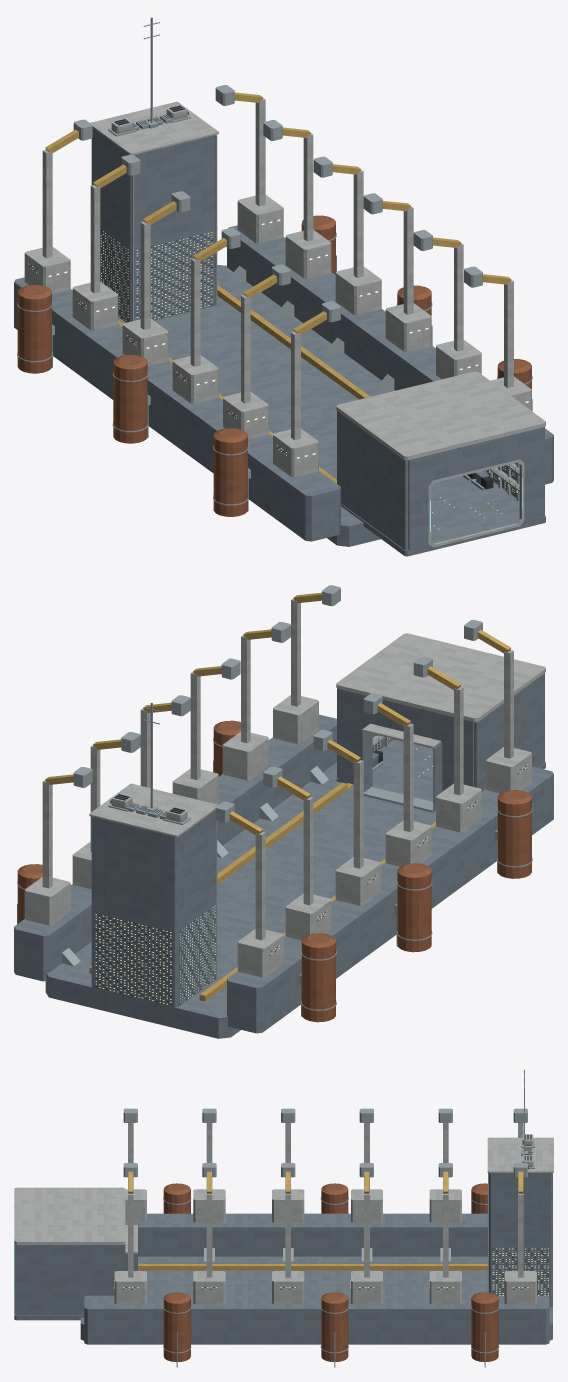
The model's file is league-yard.glb.
The picture shows the model from 3 angles, top to bottom: view 1: azimuth 30°, elevation 25°; view 2: azimuth 150°, elevation 25°; view 3: azimuth 270°, elevation 25°; orthographic projection. The views are drawn at different scales.
Visible parts, largest first — view 1: league-yard / hull, league-yard / armor, league-yard / copper, league-yard / metal, league-yard / ochre, league-yard / warm, league-yard / dark; view 2: league-yard / hull, league-yard / armor, league-yard / copper, league-yard / metal, league-yard / ochre, league-yard / warm, league-yard / dark, league-yard / glass; view 3: league-yard / hull, league-yard / armor, league-yard / copper, league-yard / metal, league-yard / ochre, league-yard / warm, league-yard / dark.
Boxes of the visible parts, box(x1,y1,x2,y2) form: league-yard / hull: box(14, 128, 553, 556); league-yard / armor: box(24, 98, 545, 547); league-yard / copper: box(17, 111, 531, 516); league-yard / metal: box(17, 17, 532, 511); league-yard / ochre: box(45, 92, 511, 529); league-yard / warm: box(28, 14, 528, 492); league-yard / dark: box(31, 105, 514, 490); league-yard / hull: box(14, 673, 553, 1038); league-yard / armor: box(24, 598, 545, 977); league-yard / copper: box(17, 720, 531, 1022); league-yard / metal: box(17, 585, 532, 1016); league-yard / ochre: box(45, 592, 510, 1001); league-yard / warm: box(95, 699, 527, 1004); league-yard / dark: box(96, 742, 527, 1004); league-yard / glass: box(95, 765, 525, 1005); league-yard / hull: box(14, 1173, 552, 1344); league-yard / armor: box(14, 1123, 553, 1304); league-yard / copper: box(163, 1144, 528, 1361); league-yard / metal: box(123, 1069, 534, 1367); league-yard / ochre: box(128, 1171, 523, 1270); league-yard / warm: box(114, 1067, 548, 1295); league-yard / dark: box(122, 1134, 548, 1295).
Bounding box in the file's own units: 91.86 × 84.2 × 172.
9 materials, 4 textured.
